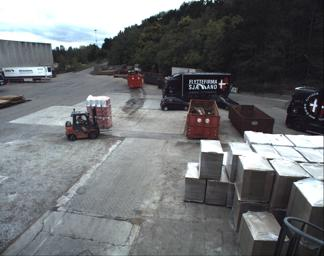rockwool_batts: (88, 94, 113, 127)
